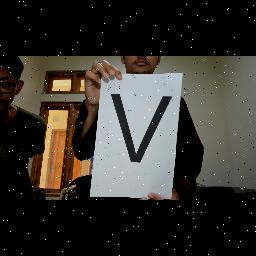v: (109, 92, 175, 164)
